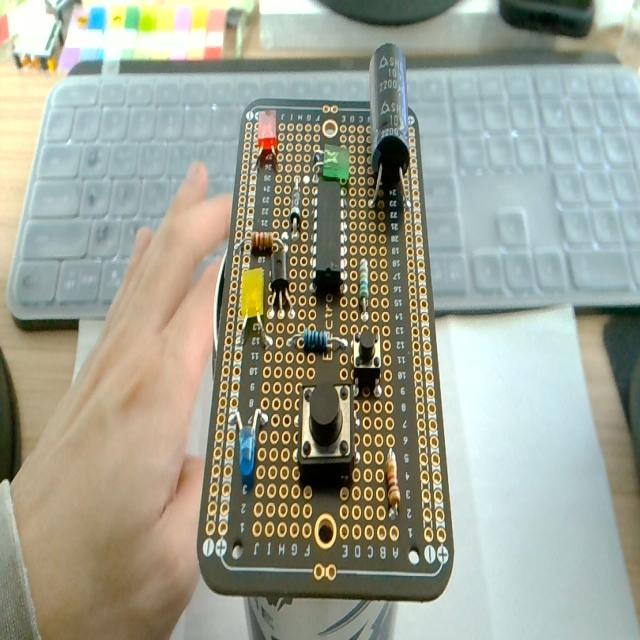Electrolytic capacitor: (364, 44, 412, 212)
IC: (312, 172, 346, 292)
diode: (288, 177, 306, 235)
led: (229, 406, 267, 493), (239, 267, 271, 350), (254, 110, 280, 170), (313, 146, 350, 186)
resistor: (287, 326, 348, 352), (238, 233, 286, 260), (385, 450, 400, 512), (358, 260, 370, 316), (303, 328, 329, 353), (251, 231, 274, 254)
switch: (297, 379, 354, 474), (353, 328, 381, 394)
transistor: (270, 246, 291, 316)
